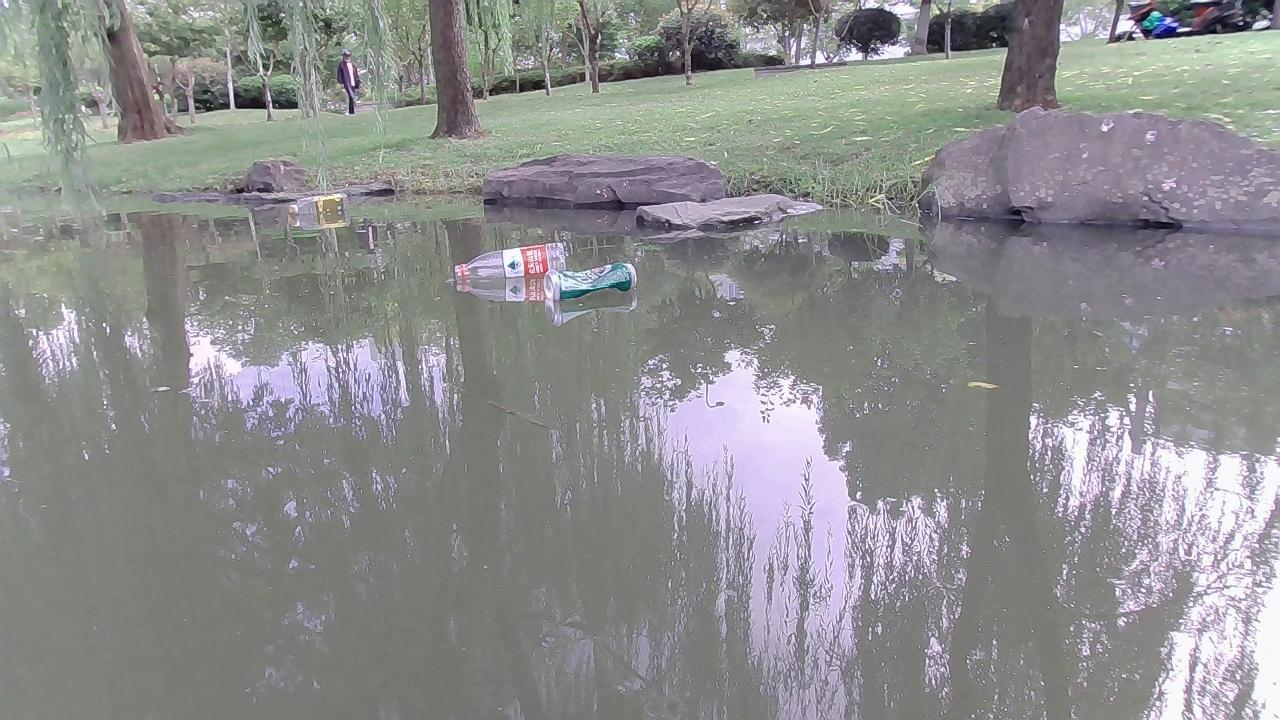Metal: (542, 260, 639, 304)
Plastic: (453, 241, 567, 282), (288, 191, 350, 215)
